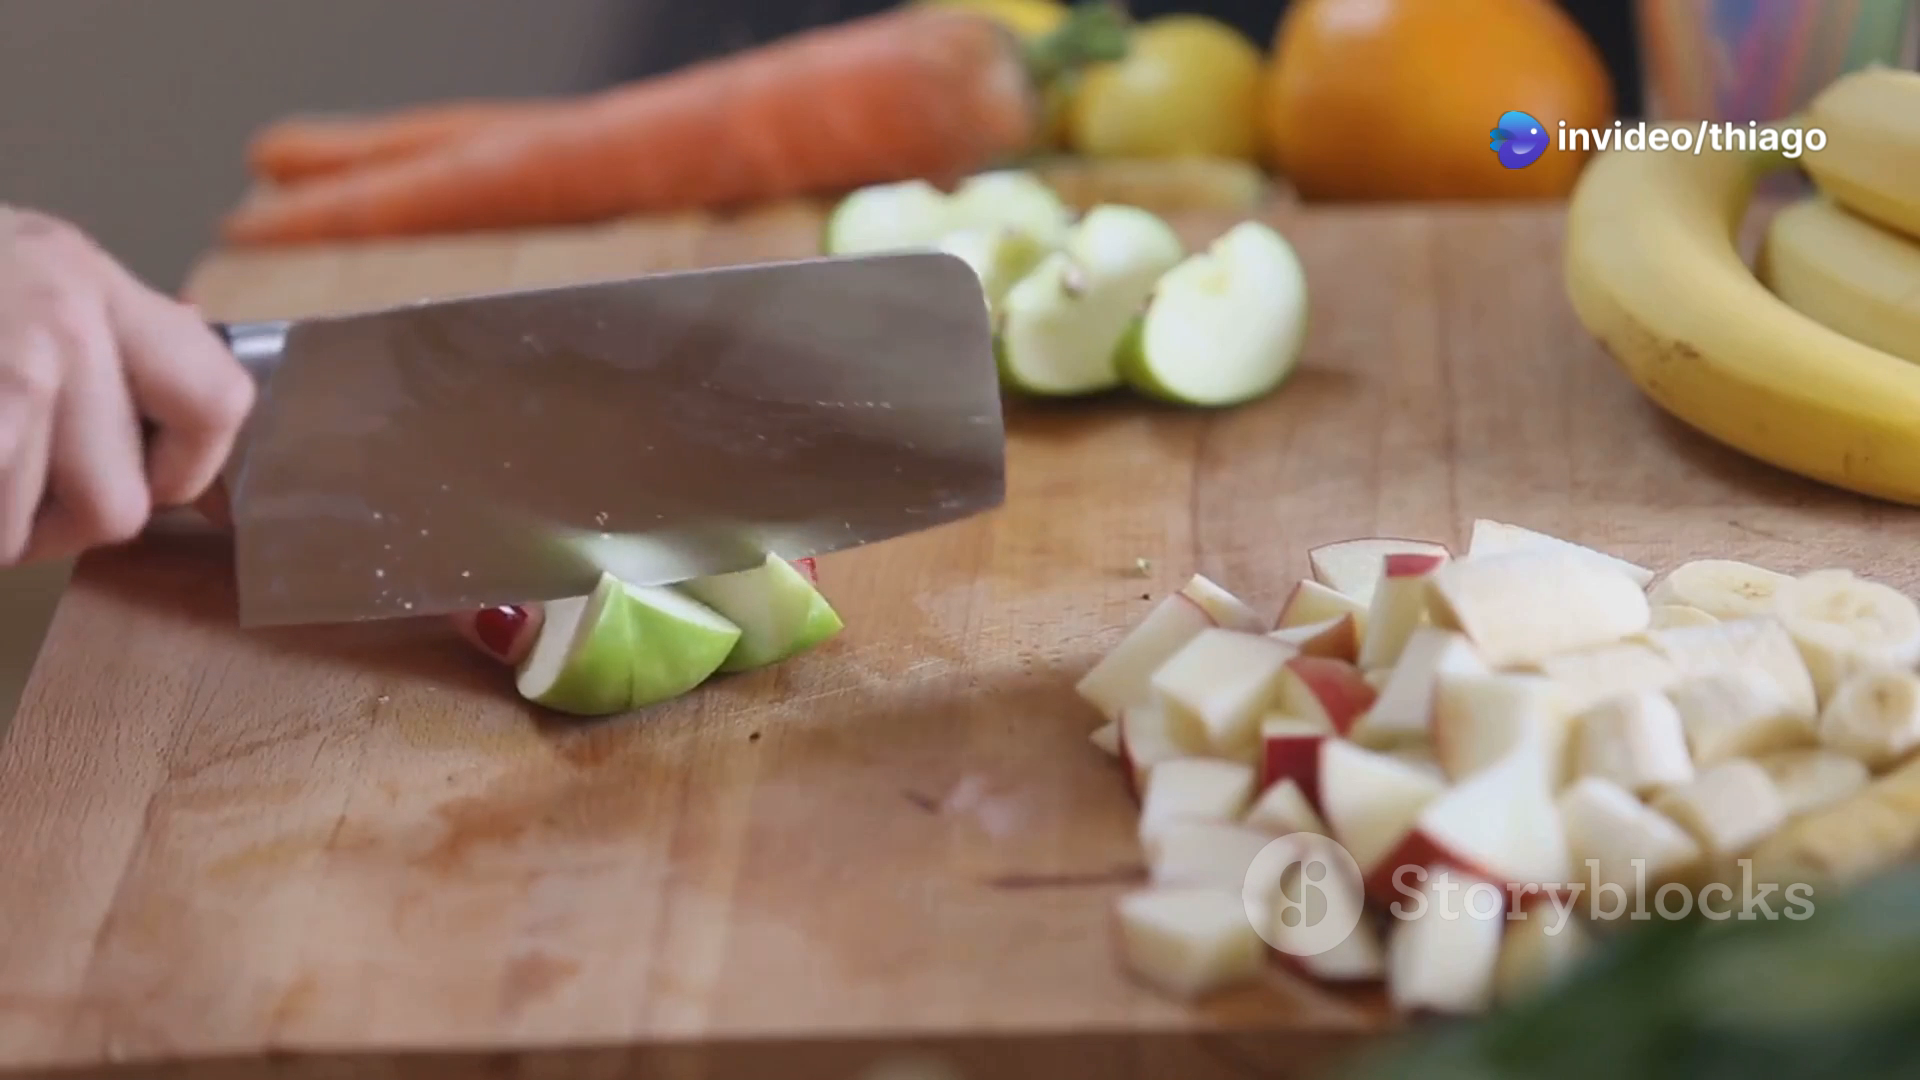cortante: (220, 249, 1006, 628)
